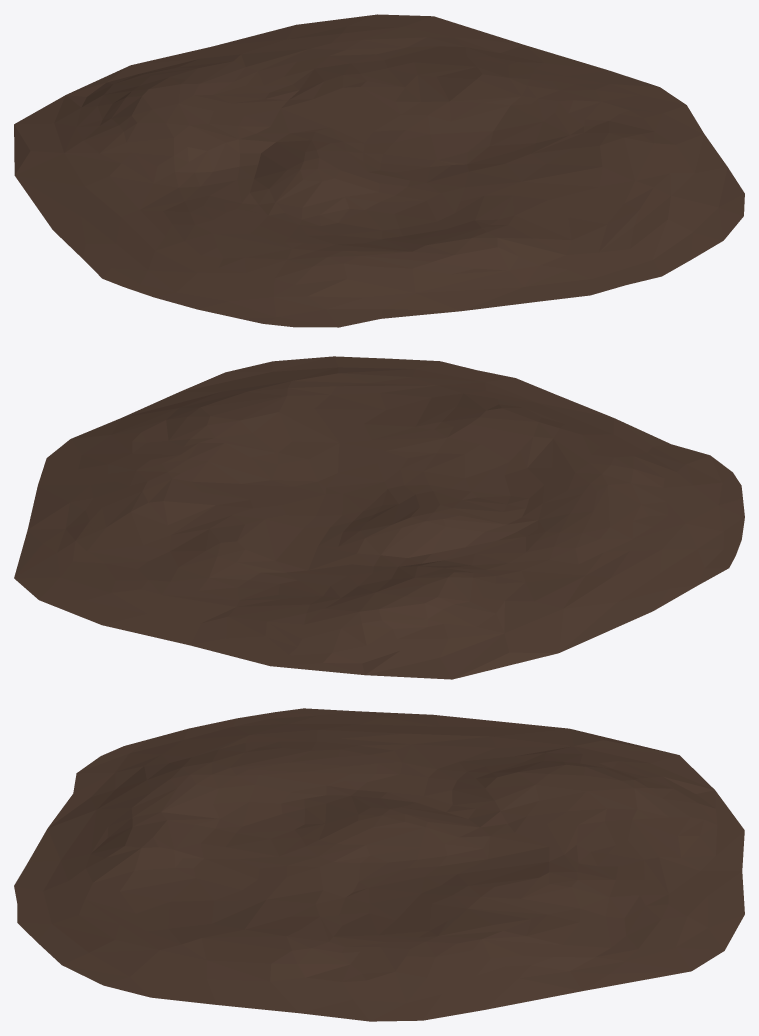
The model's file is synty-terrain-ground-mound-large-02.gltf.
The picture shows the model from 3 angles, top to bottom: view 1: azimuth 30°, elevation 25°; view 2: azimuth 150°, elevation 25°; view 3: azimuth 270°, elevation 25°; orthographic projection. The views are drawn at different scales.
Visible parts, largest first — view 1: SM_Terrain_Ground_Mound_Large_02; view 2: SM_Terrain_Ground_Mound_Large_02; view 3: SM_Terrain_Ground_Mound_Large_02.
Boxes of the visible parts, bbox=[...] form: SM_Terrain_Ground_Mound_Large_02: bbox=[14, 14, 744, 327]; SM_Terrain_Ground_Mound_Large_02: bbox=[14, 356, 744, 679]; SM_Terrain_Ground_Mound_Large_02: bbox=[14, 708, 744, 1021].
Size of the model in its own units: 19.78 by 0.7862 by 19.51.
Materials: 1 (1 with a texture image).
